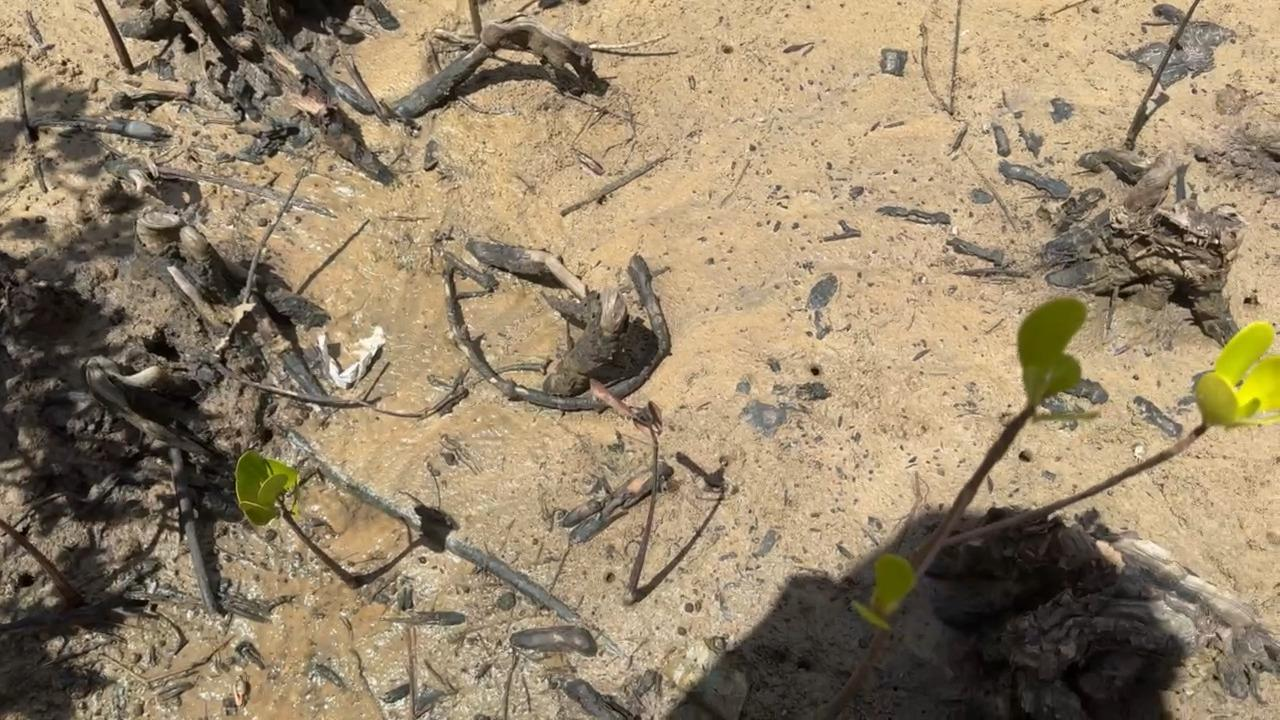Tree: (816, 295, 1280, 720), (235, 451, 357, 588)
